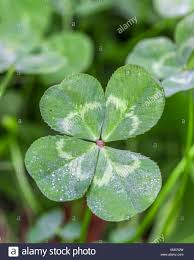4-clover: (29, 66, 166, 224)
